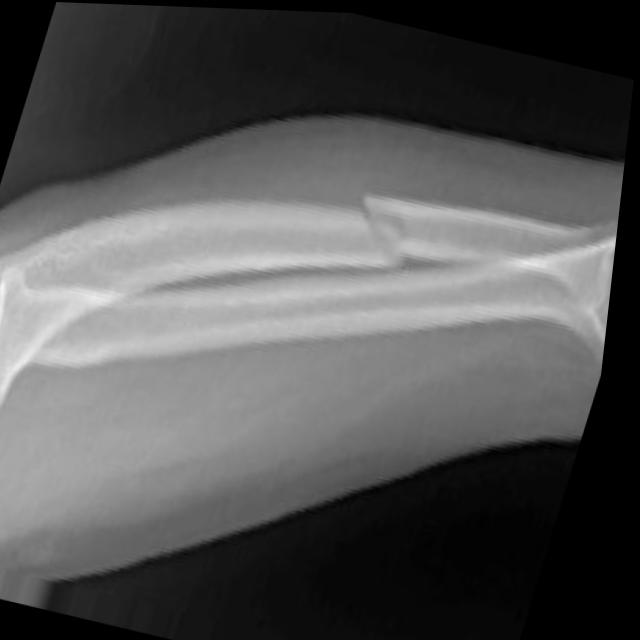fracture: (345, 170, 417, 266)
